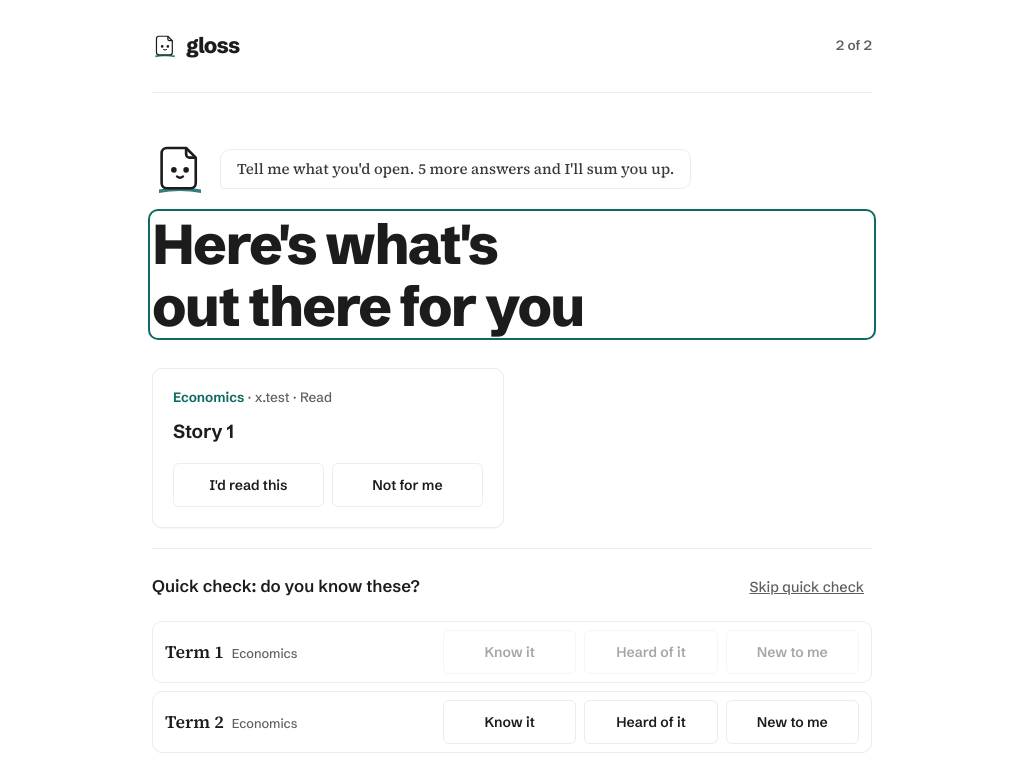
Test: Quick check (decision 68 K4, K4b: all at once) › shows terms answered earlier as answered
Click the button "Know it" in the row of "Term 2".
click(510, 722)  # box [443,700,576,744]
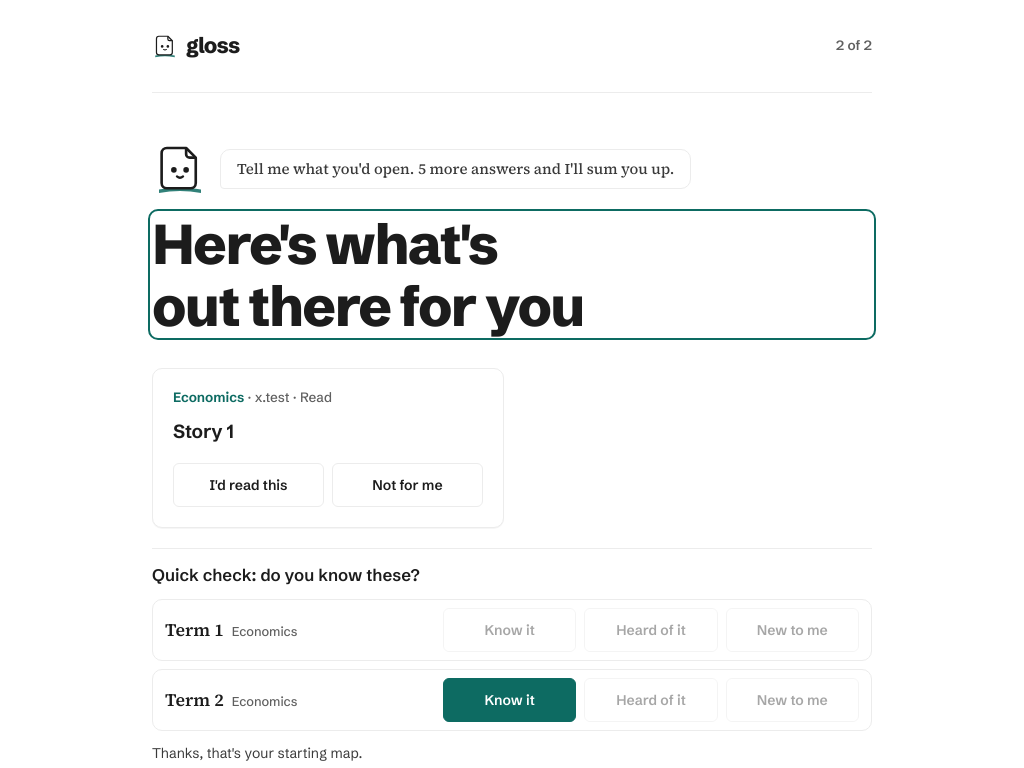
expect the message "Thanks, that's your starting map." is shown: met, box [152,744,362,762]
